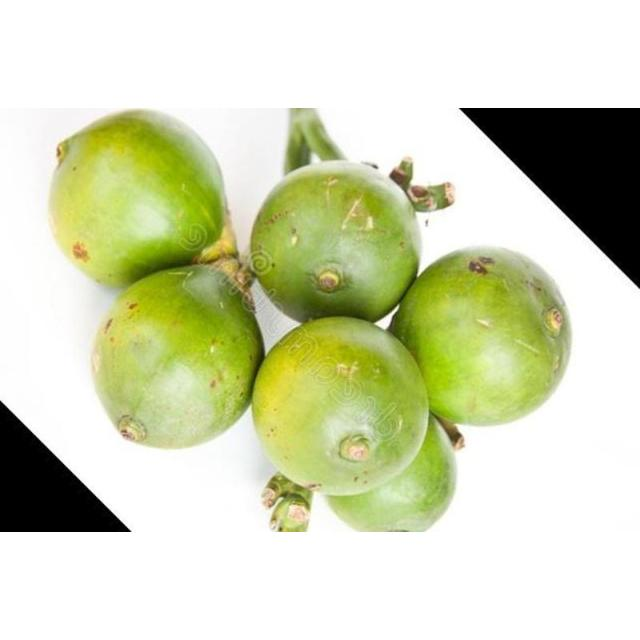good: (250, 316, 456, 532), (47, 110, 232, 293), (390, 247, 573, 429), (90, 266, 266, 453), (248, 160, 423, 326)
